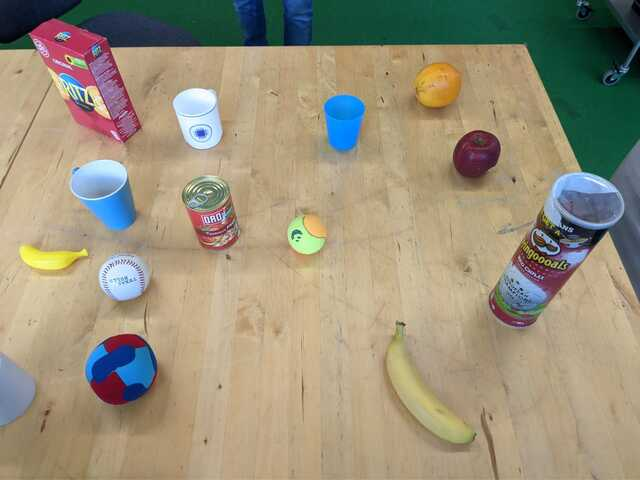001_chips_can: (486, 172, 626, 330)
003_cracker_box: (26, 18, 145, 144)
005_tomato_soup_can: (181, 175, 241, 249)
011_banana: (381, 320, 479, 445), (21, 244, 93, 273)
013_apple: (451, 128, 503, 179)
017_orange: (414, 61, 464, 110)
025_mug: (68, 159, 138, 227), (172, 86, 227, 150), (323, 94, 367, 153)
055_baseball: (97, 253, 153, 300)
056_tennis_ball: (287, 213, 330, 255)
057_racquetball: (83, 332, 162, 405)
